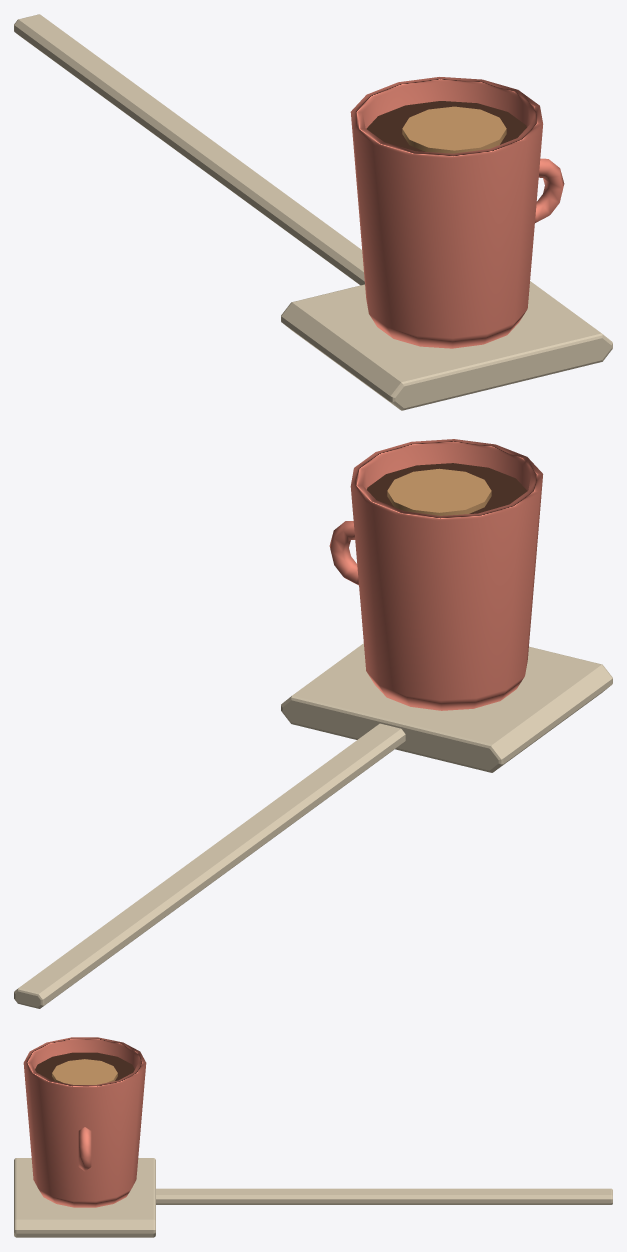
File: block.glb
3 views of the same model, one above another, from view 1: azimuth 30°, elevation 25°; view 2: azimuth 150°, elevation 25°; view 3: azimuth 270°, elevation 25° (orthographic). The views are drawn at different scales.
Visible parts, largest first — view 1: Bloque / cerámica esmaltada; view 2: Bloque / cerámica esmaltada; view 3: Bloque / cerámica esmaltada.
Boxes of the visible parts, <box> form: Bloque / cerámica esmaltada: <box>14,14,612,410</box>; Bloque / cerámica esmaltada: <box>14,439,612,1008</box>; Bloque / cerámica esmaltada: <box>14,1037,612,1237</box>.
Size of the model in its own units: 0.0152 by 0.0145 by 0.0547.
